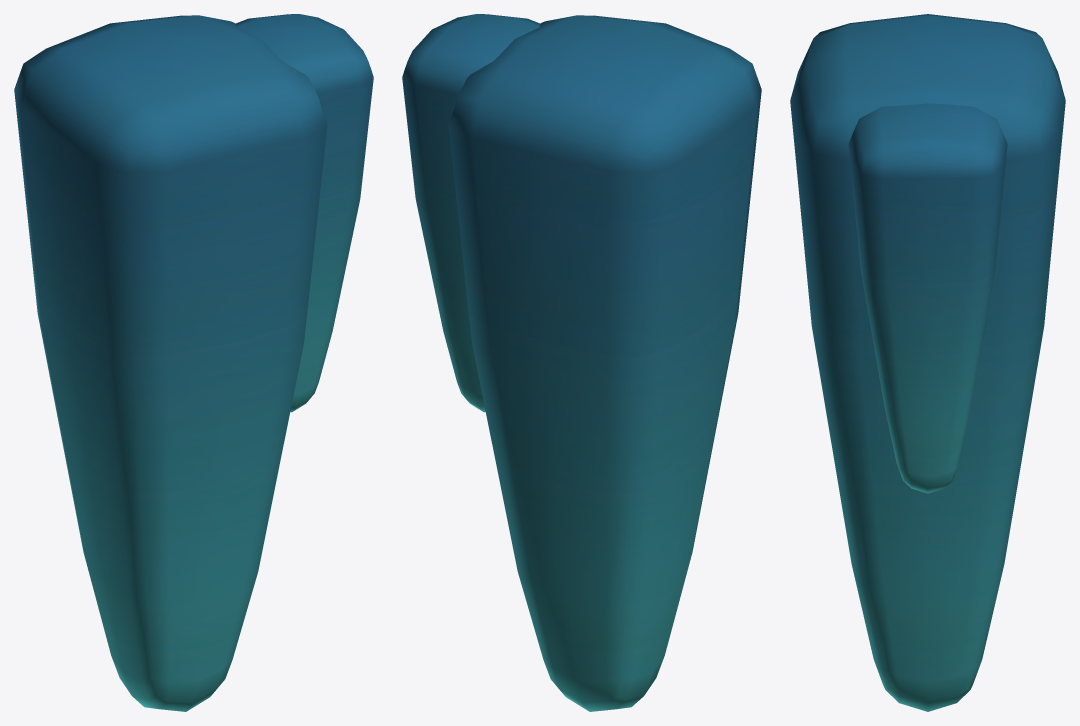
File: icicle_1.fbx
3 renders of one model, left to right at view 1: azimuth 30°, elevation 25°; view 2: azimuth 150°, elevation 25°; view 3: azimuth 270°, elevation 25°, orthographic.
Visible parts, largest first — view 1: icicle_1_LOD0; view 2: icicle_1_LOD0; view 3: icicle_1_LOD0.
Part boxes in pixels (x1,y1,x2,y2): icicle_1_LOD0: (14, 14, 373, 711); icicle_1_LOD0: (402, 14, 761, 711); icicle_1_LOD0: (790, 14, 1065, 711).
Size of what is drawn, in the model's own units: 66.81 by 141 by 53.
